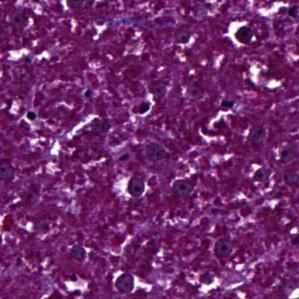inflammation: (106, 270, 152, 299), (228, 13, 259, 48), (118, 171, 150, 202), (126, 90, 158, 121), (201, 108, 238, 133), (169, 175, 200, 198)
